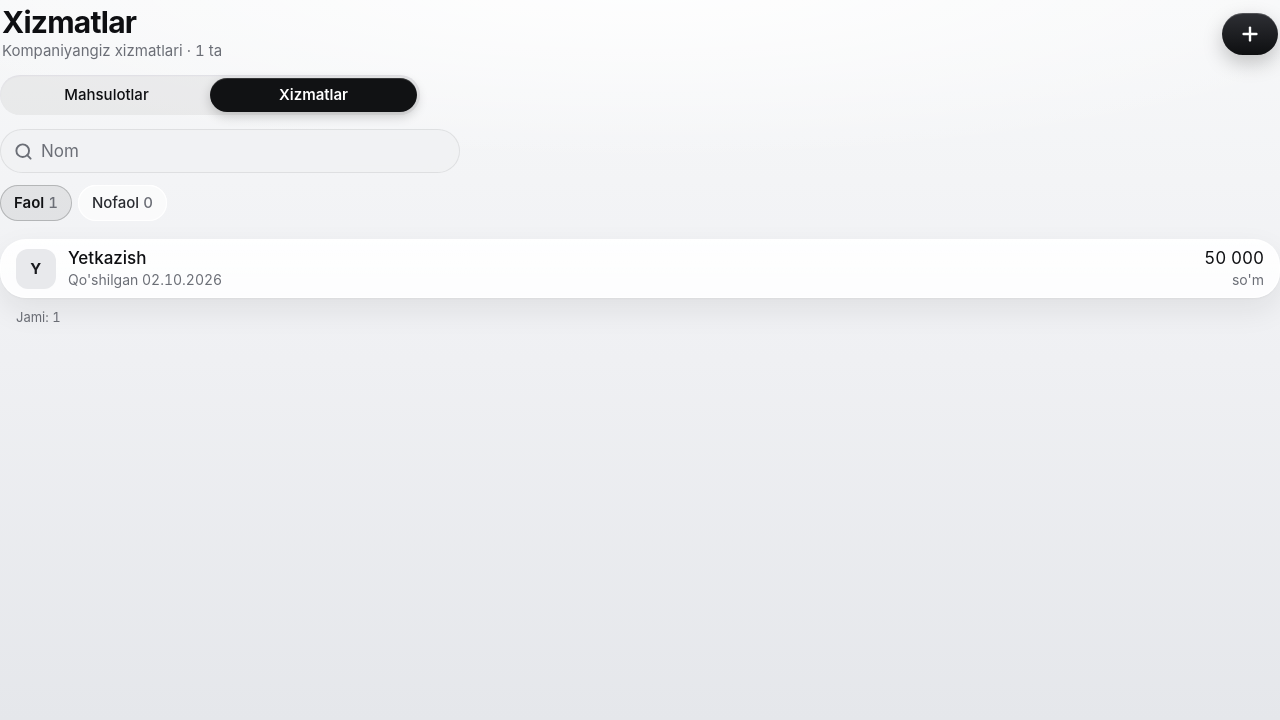
Test: the services: a row each with its note or its day, the price at its end; a press offers what may be done with it
Expected: the heading "Xizmatlar" is shown, [2, 4, 136, 40]
Expected: the text "Kompaniyangiz xizmatlari · 1 ta" is shown, [2, 41, 222, 61]
Step 1. Click the button "Y Yetkazish Qo'shilgan 02.10.2026 50 000 so'm" → click(36, 269), box [0, 239, 1279, 298]
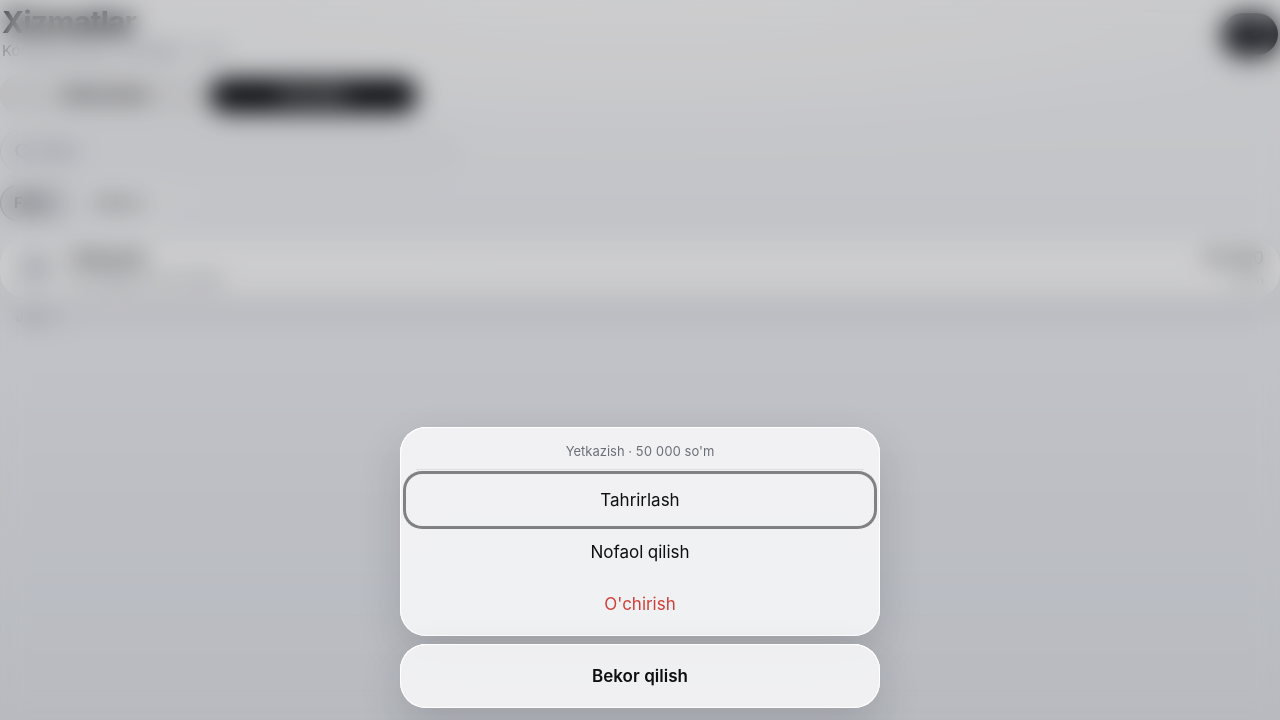
Expected: the heading "Yetkazish · 50 000 so'm" is shown, [566, 443, 714, 459]
Expected: the menu items read "Tahrirlash", "Nofaol qilish", "O'chirish", in this order
Step 2. Click the menu item "Nofaol qilish" → click(640, 552), box [406, 526, 874, 578]
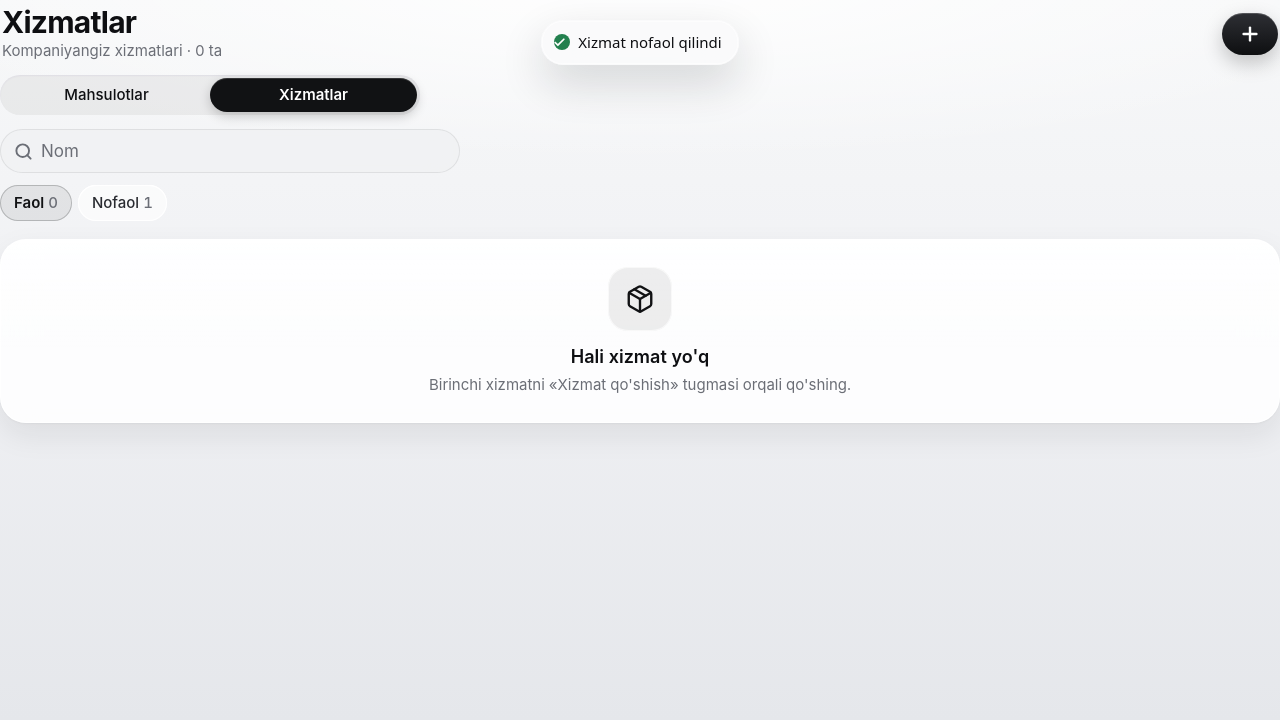
Expected: the text "Xizmat nofaol qilindi" is shown, [578, 31, 722, 54]
